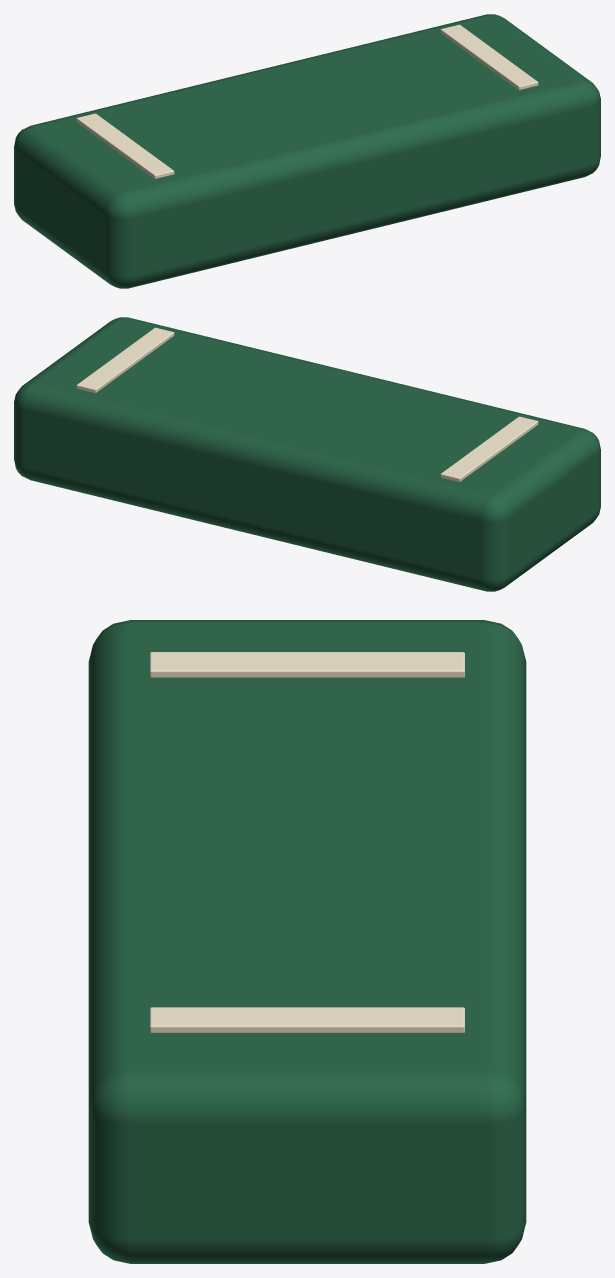
Rendered from cricket-ground-and-pavilion-boundary-marker-cushion-1d533cd4__31331.glb.
3 views of the same model, one above another, from view 1: azimuth 30°, elevation 25°; view 2: azimuth 150°, elevation 25°; view 3: azimuth 270°, elevation 25° (orthographic). The views are drawn at different scales.
Parts seen in each view (by area): view 1: boundary-marker-cushion; view 2: boundary-marker-cushion; view 3: boundary-marker-cushion.
Boxes of the visible parts, x1,y1,x2,y2 form: boundary-marker-cushion: [14, 14, 600, 288]; boundary-marker-cushion: [14, 317, 600, 591]; boundary-marker-cushion: [88, 620, 526, 1263].
Bounding box in the file's own units: 0.65 × 0.125 × 0.25.
